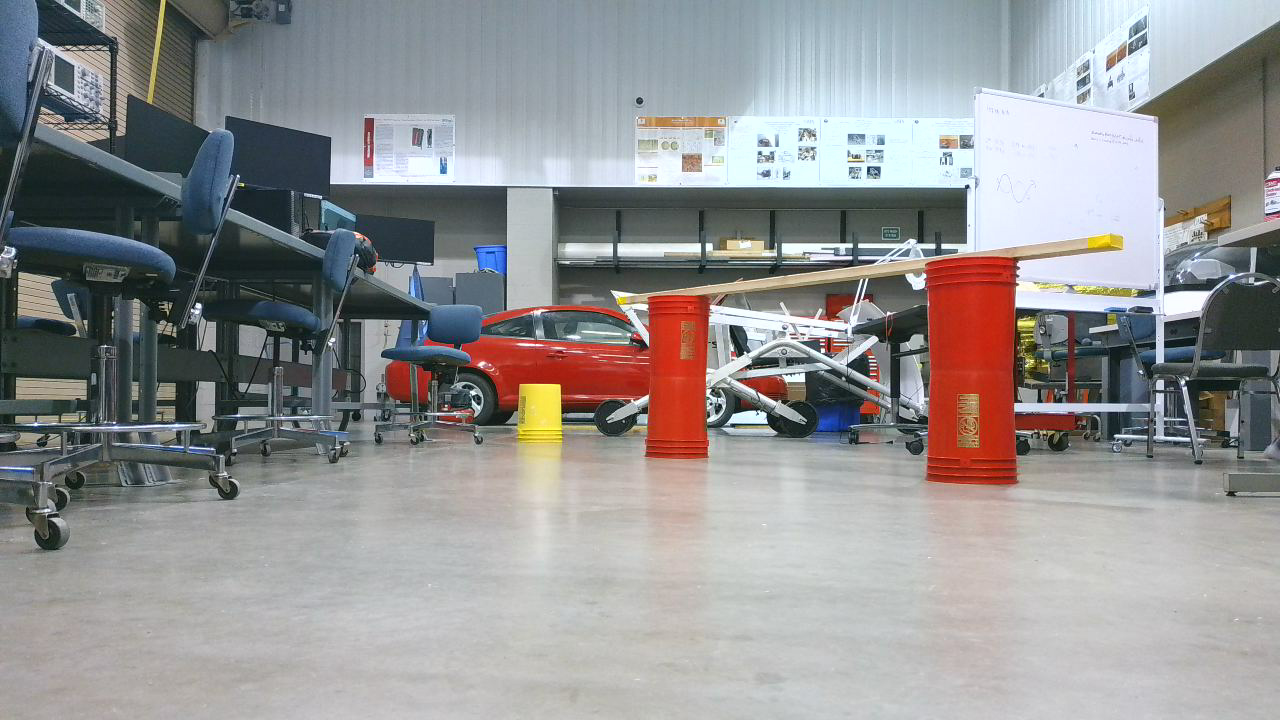red_bucket_arch: (634, 239, 1049, 495)
yellow_bucket: (518, 383, 571, 451)
